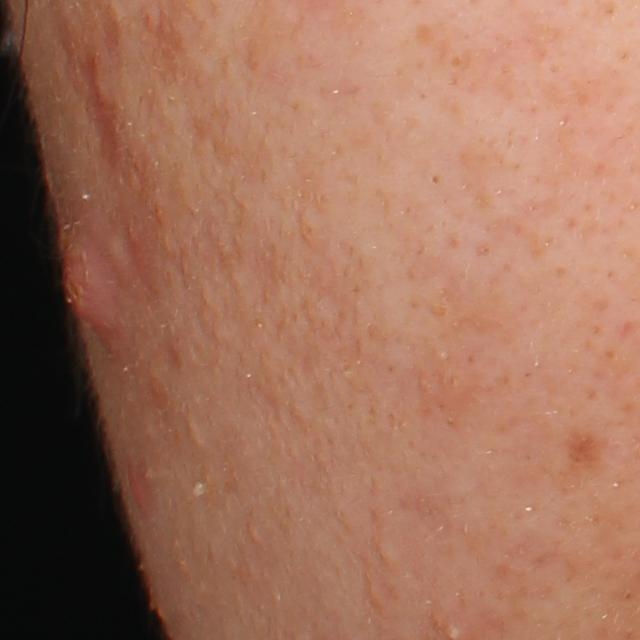comedo: (375, 543, 403, 571), (191, 477, 209, 502), (423, 170, 443, 191)
